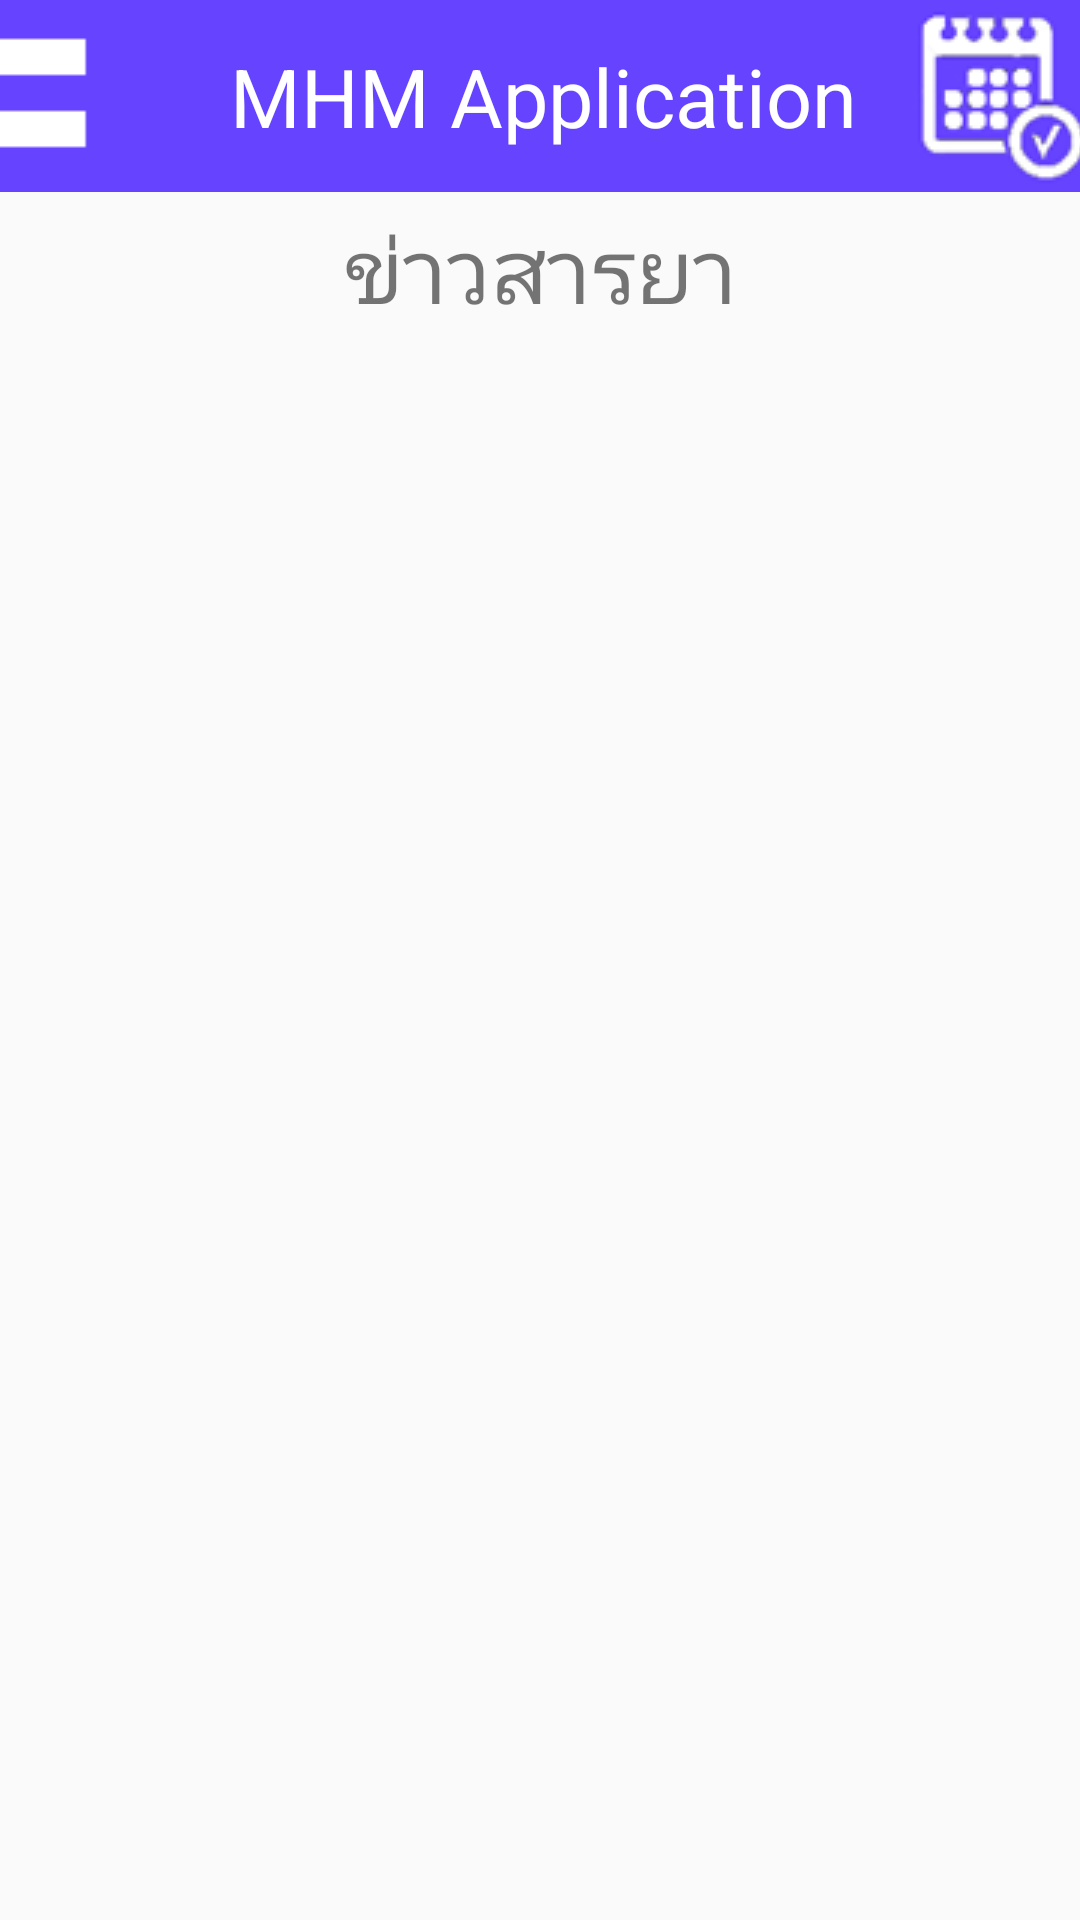

Icon click points for this 1080w x 1920h phone screenshot, format (x=x, y=y):
calendar: (x=1000, y=97)
